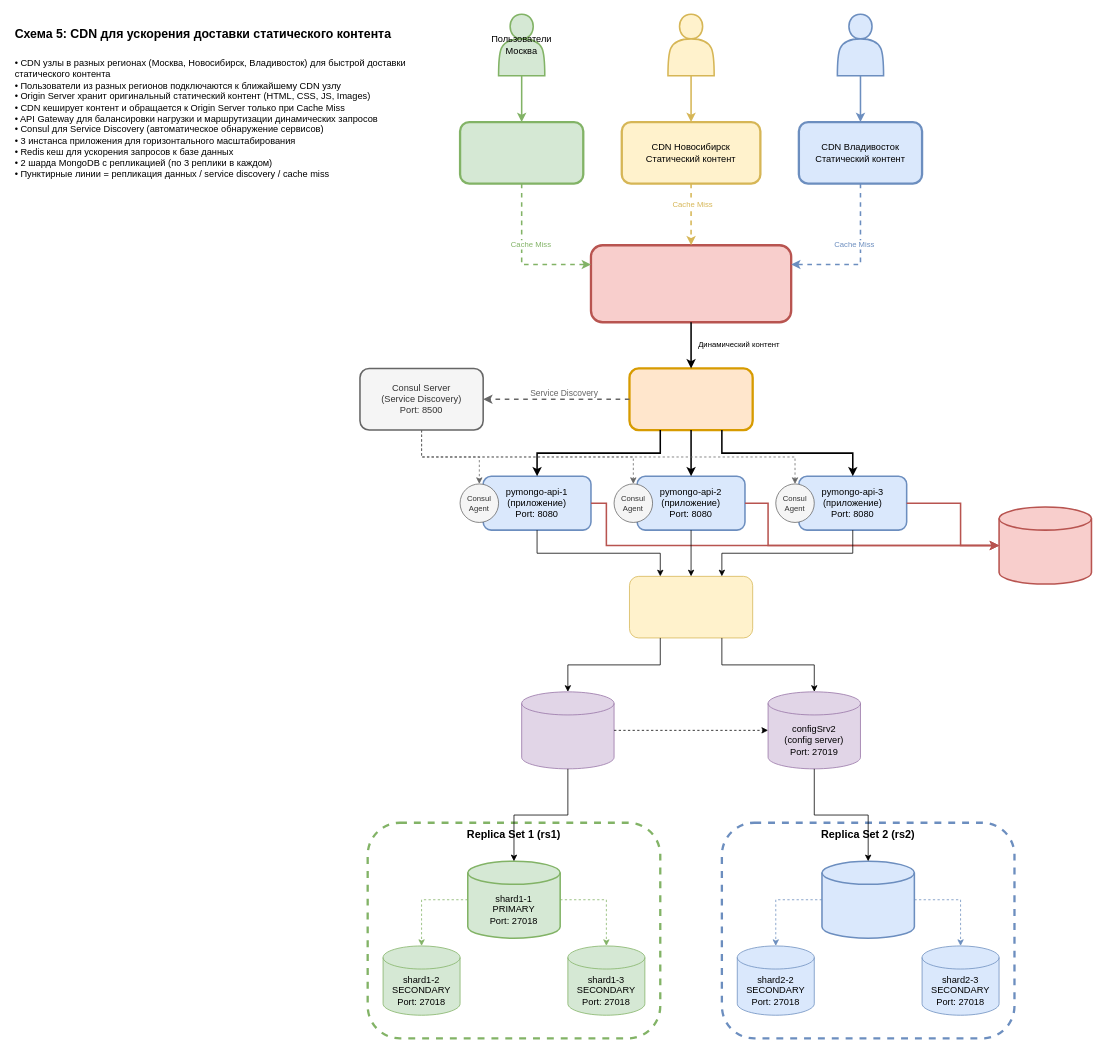
Image size: 1105x1053. Some labels were removed from this diagram. The shapes that lost their labels are listed below. From the top down, each one's centre as x and y in pixels, then its label:
At point (691, 44): "Пользователи Новосибирск".
At point (860, 44): "Пользователи Владивосток".
At point (521, 152): "CDN Москва Статический контент".
At point (690, 283): "Origin Server (Nginx/Apache) Статический контент: HTML, CSS, JS, Images".
At point (690, 399): "API Gateway (Kong/Nginx) Port: 80".
At point (1045, 545): "Redis (кеш) Port: 6379".
At point (691, 607): "mongos (роутер) Port: 27017".
At point (567, 730): "configSrv1 (config server) Port: 27019".
At point (868, 899): "shard2-1 PRIMARY Port: 27018".
